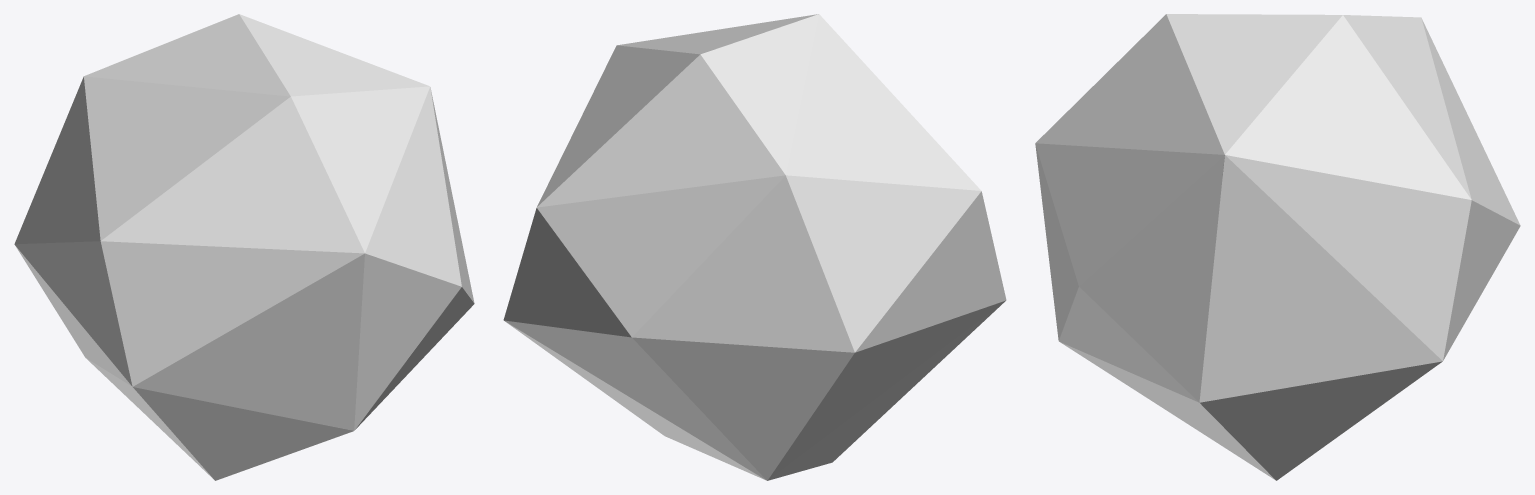
File: smoke.glb
3 renders of one model, left to right at view 1: azimuth 30°, elevation 25°; view 2: azimuth 150°, elevation 25°; view 3: azimuth 270°, elevation 25°, orthographic. The views are drawn at different scales.
Parts seen in each view (by area): view 1: Icosphere_Icosphere.007; view 2: Icosphere_Icosphere.007; view 3: Icosphere_Icosphere.007.
Boxes of the visible parts, x1,y1,x2,y2 form: Icosphere_Icosphere.007: (14, 14, 474, 480); Icosphere_Icosphere.007: (503, 14, 1006, 480); Icosphere_Icosphere.007: (1035, 14, 1520, 480).
Bounding box in the file's own units: 1.88 × 1.98 × 1.99.
1 material, 1 textured.
